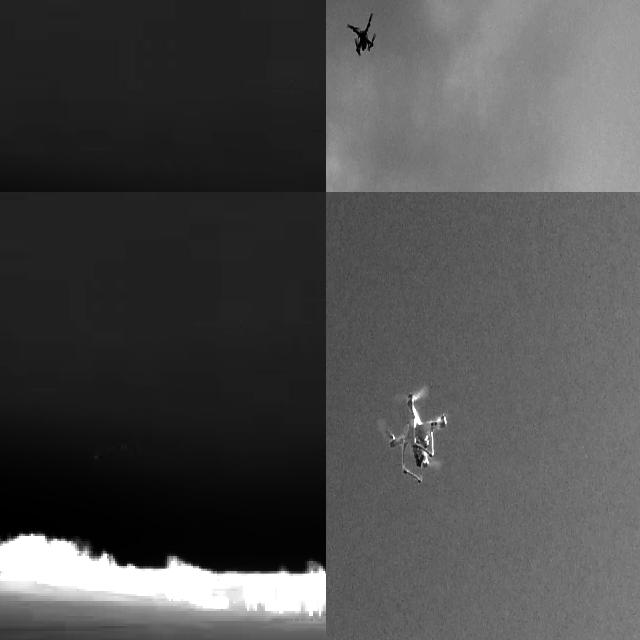0: (83, 445, 111, 475)
drone: (381, 381, 446, 484), (346, 11, 384, 58)
